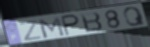8: (105, 9, 123, 29)
B: (80, 11, 104, 34)
M: (37, 15, 67, 39)
P: (60, 13, 81, 37)
Q: (122, 6, 147, 27)
Z: (19, 19, 43, 42)
